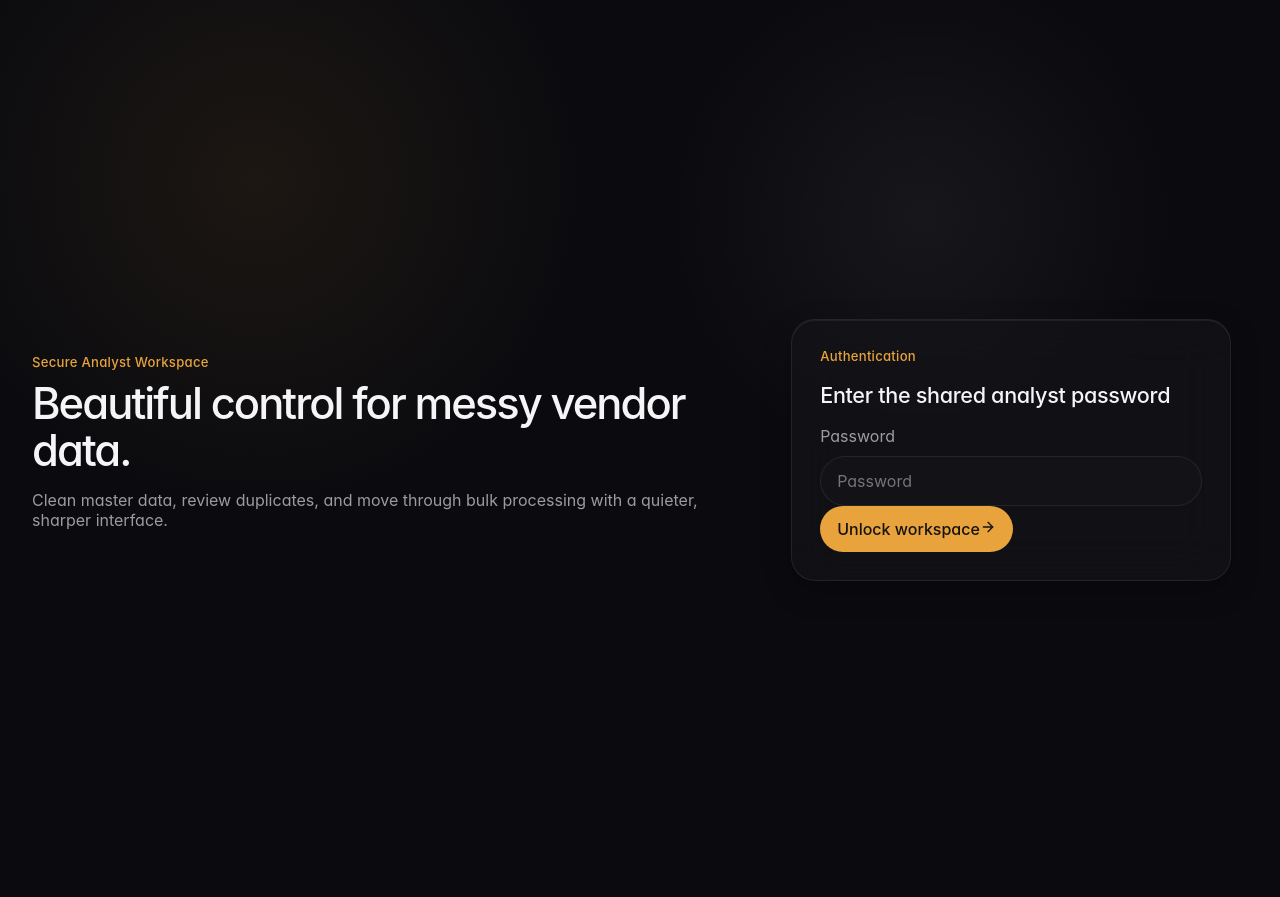
it: App auth flow › shows the auth gate and logs in successfully
Expected: the heading "Enter the shared analyst password" is shown, [820,382,1202,408]
In the password field labelled "Password": (1011, 481) [820,456,1202,506], type "secret"
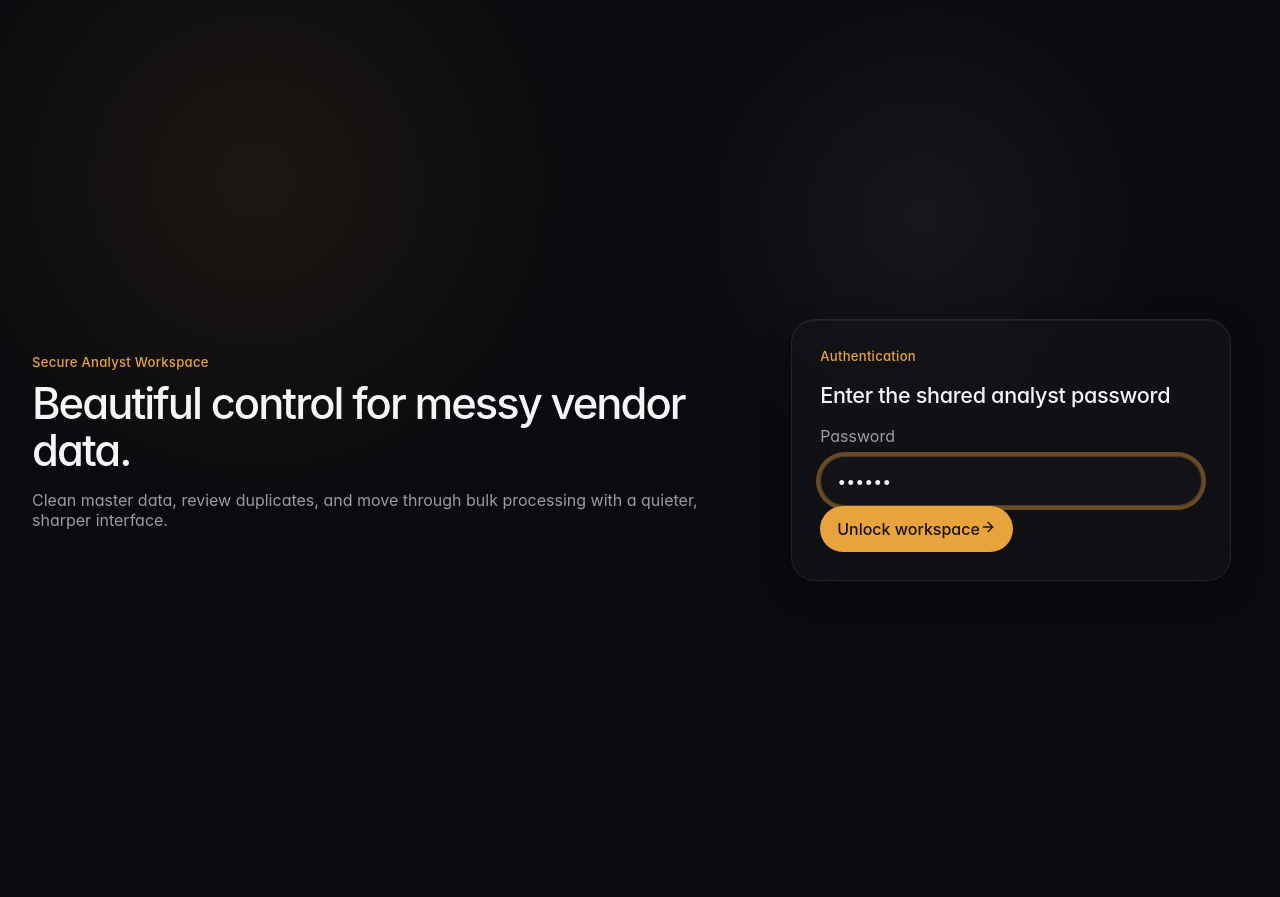
Click the button "Unlock workspace": (917, 529) [820,506,1013,552]
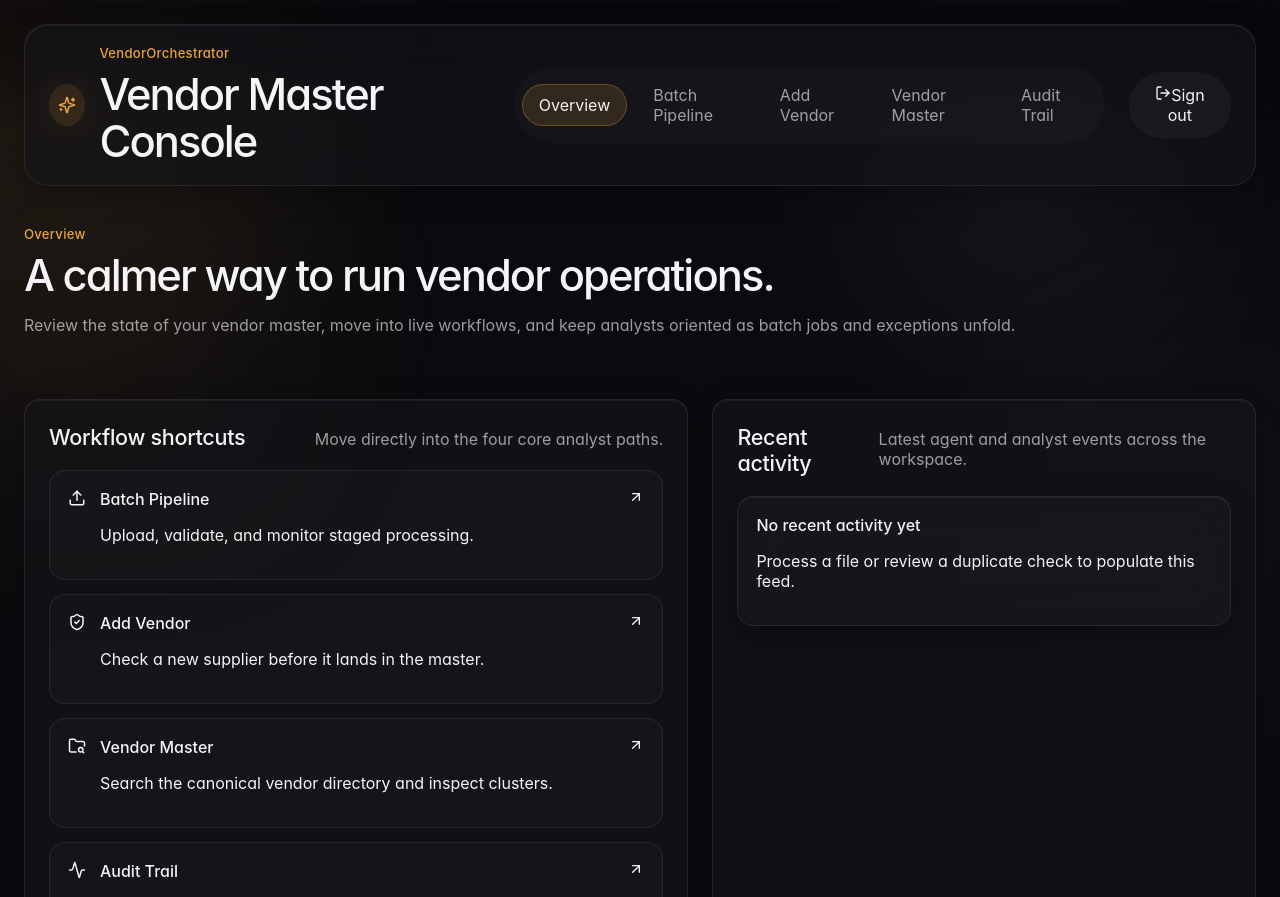
Now the heading "Vendor Master Console" is shown, box [100,68,383,167]
